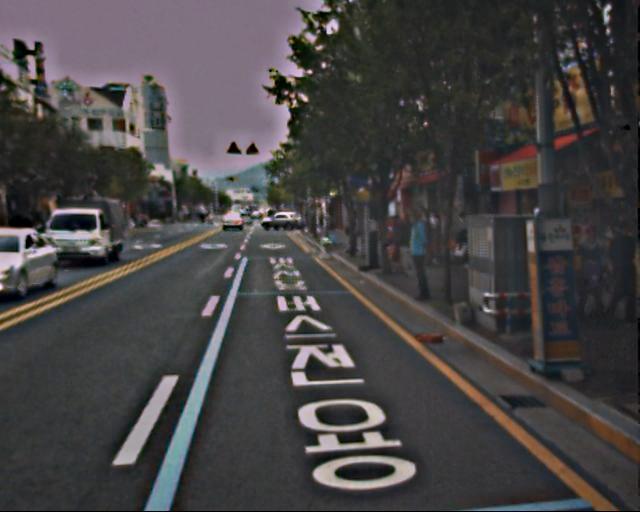person: (590, 218, 640, 319), (567, 225, 610, 322), (396, 208, 433, 299), (390, 210, 418, 278), (451, 209, 476, 271)
